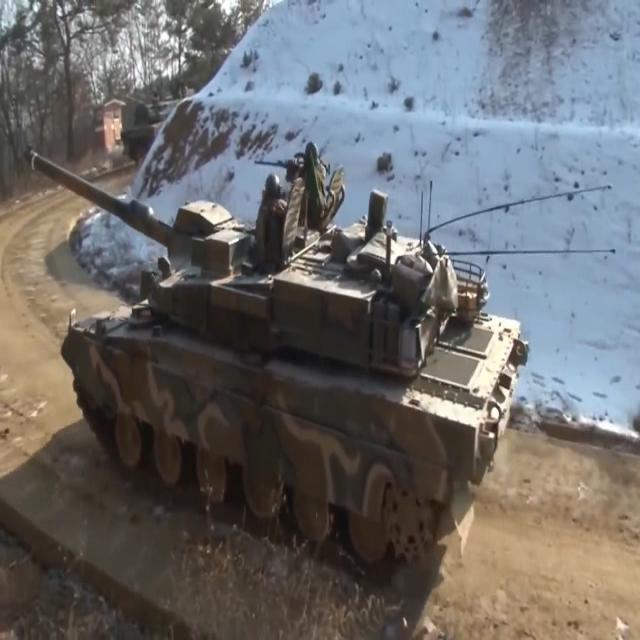korea tank: (22, 139, 532, 581)
